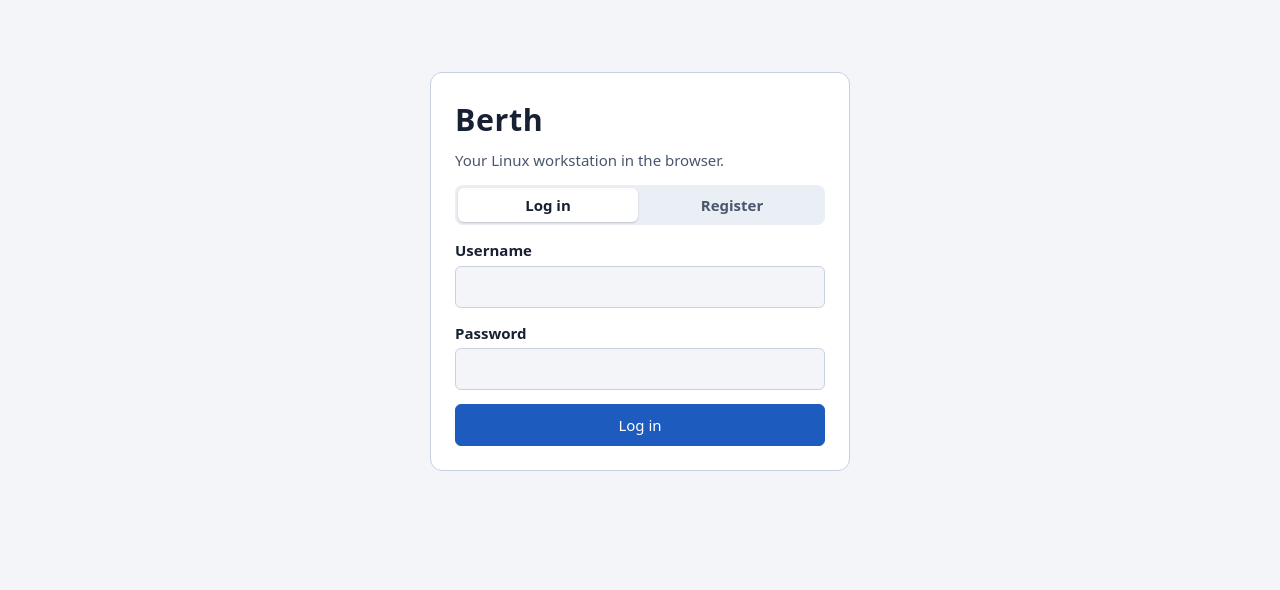
Test: register › registers, then logs in (register does not log in by itself)
Click the tab "Register". click: {"x": 732, "y": 205}
box: [642, 188, 822, 222]
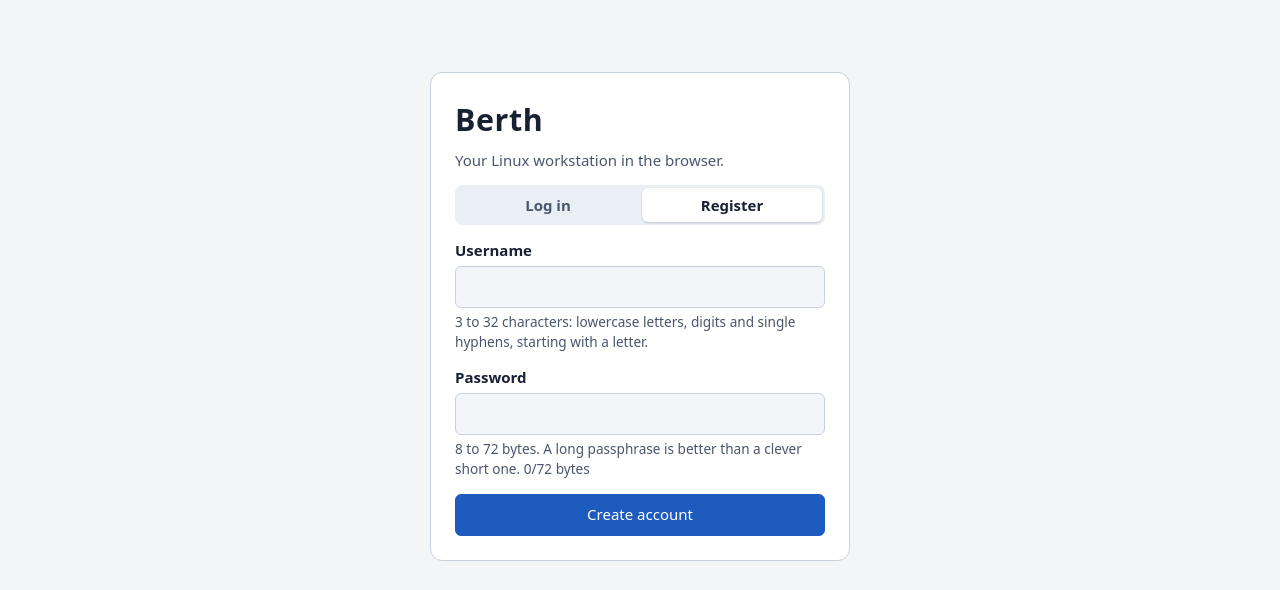
Type "alice" into the field labelled "Username". click: {"x": 640, "y": 287}
box: [455, 266, 825, 308]
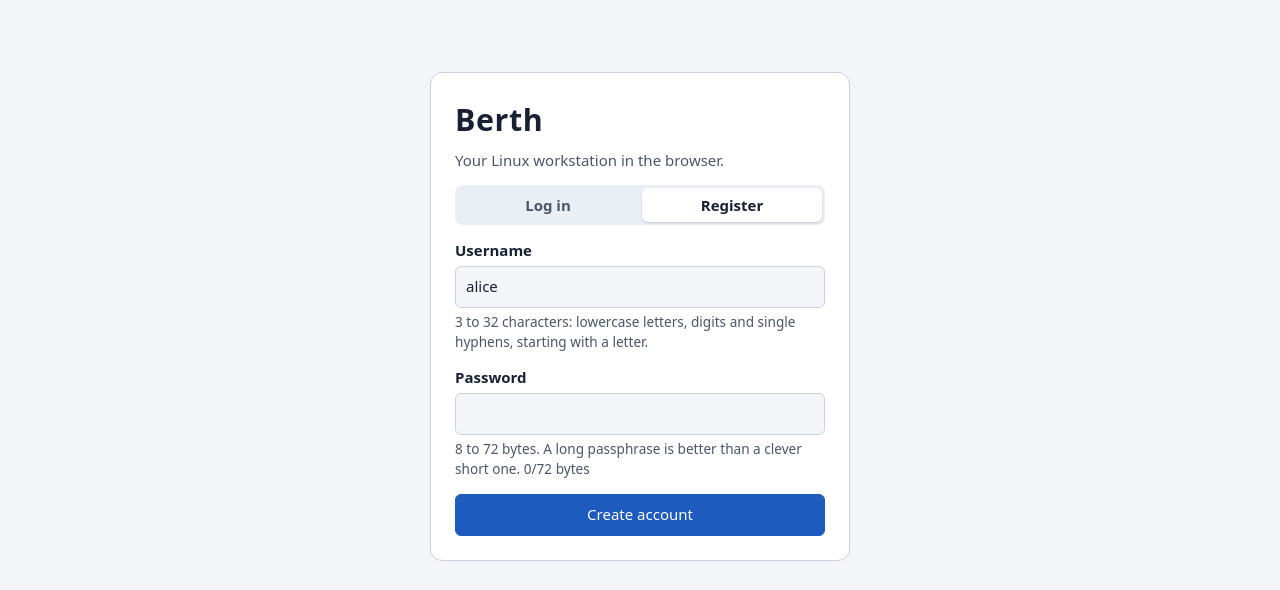
Type "correct horse" into the password field labelled "Password". click: {"x": 640, "y": 414}
box: [455, 393, 825, 435]
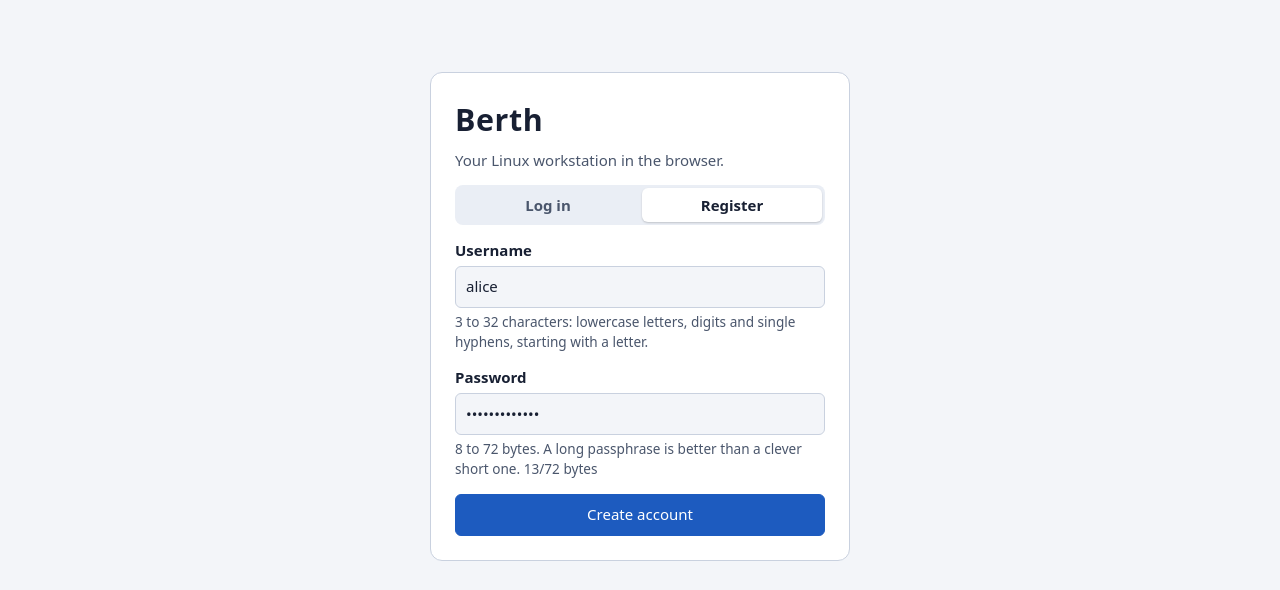
Submit the form labelled "Username", box [455, 239, 825, 536]
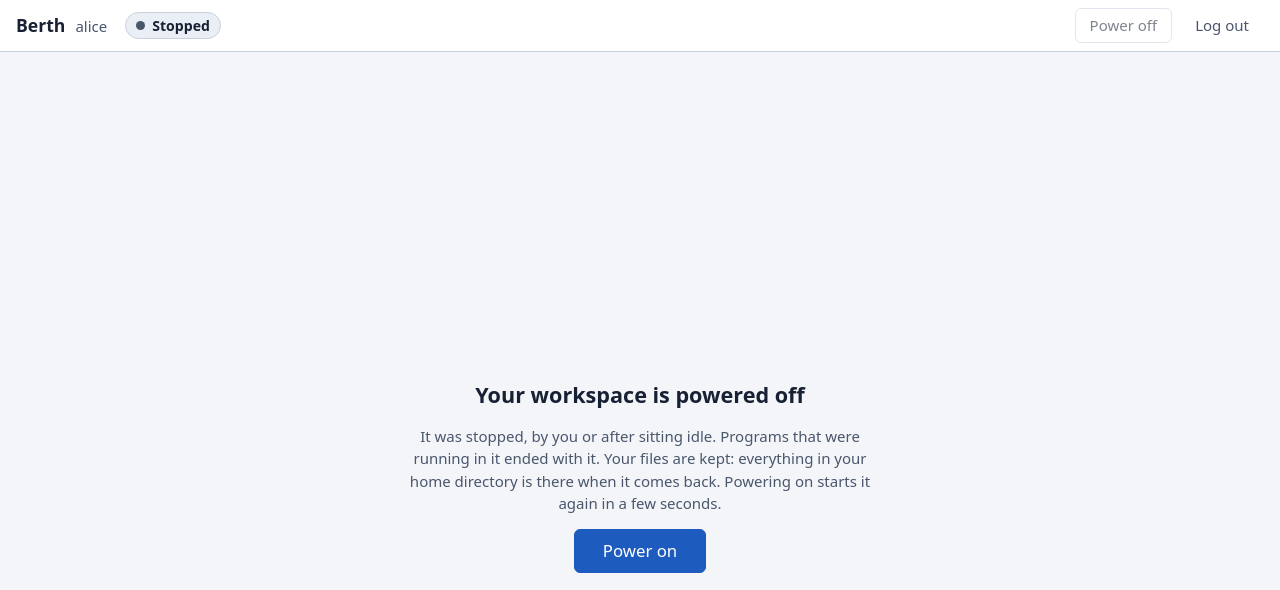
Check: the text "alice" is shown, box [75, 15, 107, 38]
